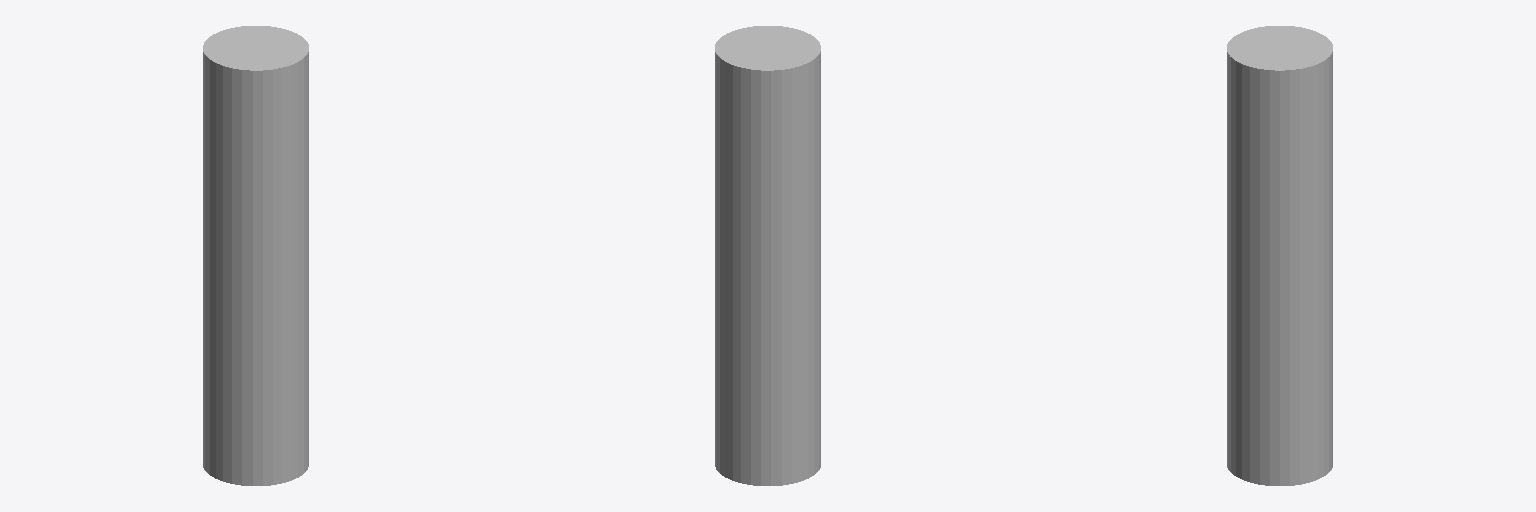
File: pillar.obj
3 views of the same model, side by side, from view 1: azimuth 30°, elevation 25°; view 2: azimuth 150°, elevation 25°; view 3: azimuth 270°, elevation 25° (orthographic).
Parts seen in each view (by area): view 1: Cylinder; view 2: Cylinder; view 3: Cylinder.
Part boxes in pixels (bbox=[...]): Cylinder: bbox=[203, 26, 308, 485]; Cylinder: bbox=[715, 26, 820, 485]; Cylinder: bbox=[1227, 26, 1332, 485].
Size of the model in its own units: 3.69 by 15.85 by 3.69.